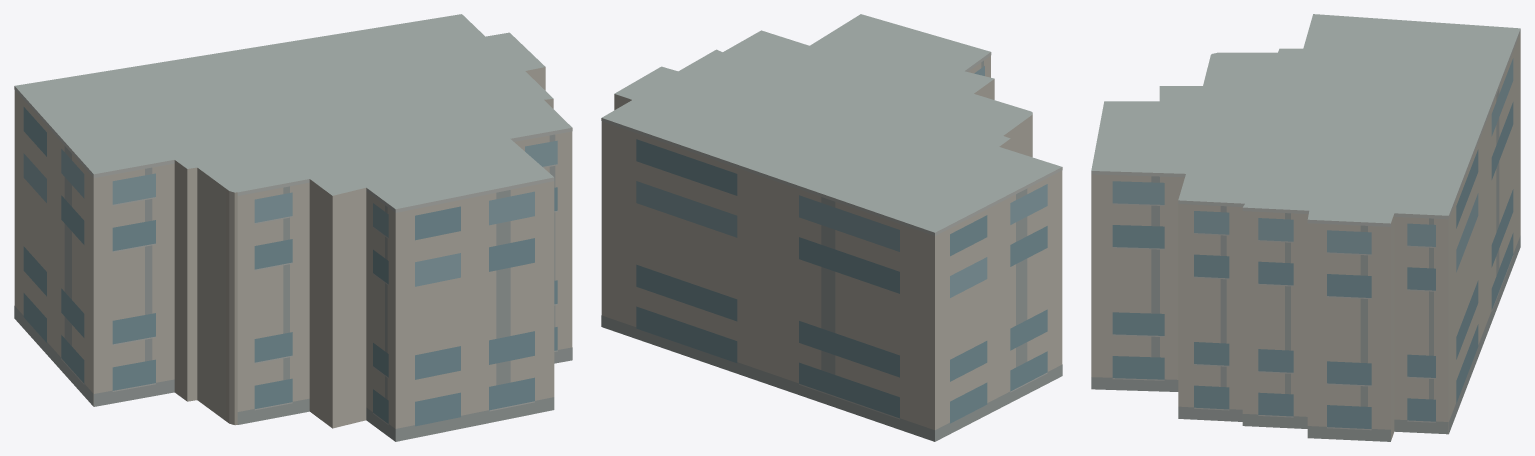
Rendered from survey-upis-32690582.glb.
The picture shows the model from 3 angles, left to right: view 1: azimuth 30°, elevation 25°; view 2: azimuth 150°, elevation 25°; view 3: azimuth 270°, elevation 25°; orthographic projection. The views are drawn at different scales.
Parts seen in each view (by area): view 1: survey-upis-32690582.tmp; view 2: survey-upis-32690582.tmp; view 3: survey-upis-32690582.tmp.
Part boxes in pixels (left/top/right/bottom): survey-upis-32690582.tmp: left=14, top=14, right=572, bottom=441; survey-upis-32690582.tmp: left=601, top=14, right=1062, bottom=441; survey-upis-32690582.tmp: left=1091, top=14, right=1520, bottom=441.
Size of the model in its own units: 31.37 by 15.25 by 27.18.
